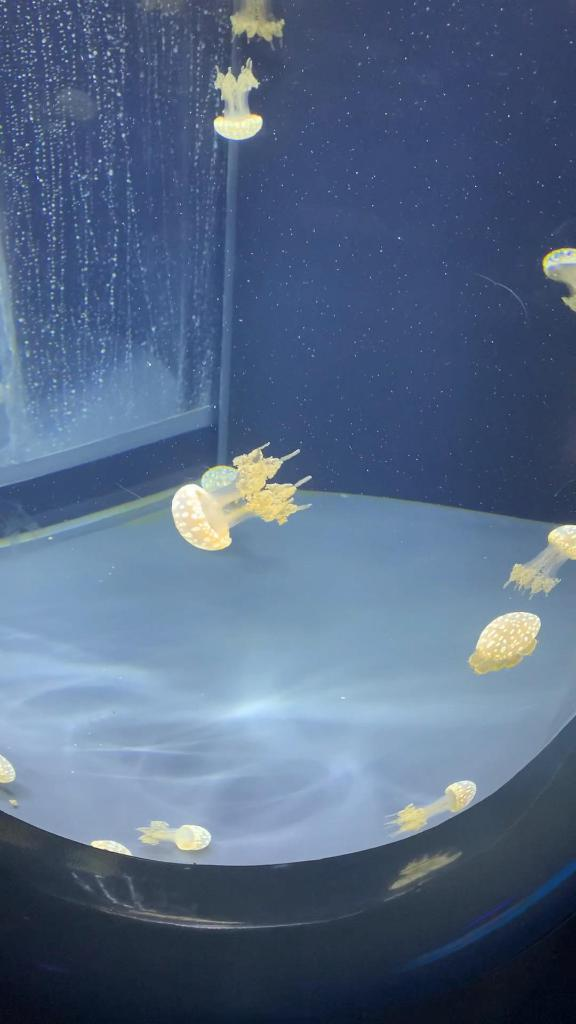jellyfish: (382, 776, 482, 838), (166, 482, 232, 550), (469, 609, 543, 669), (210, 113, 264, 141), (541, 244, 575, 288), (170, 818, 214, 852), (445, 775, 479, 809), (548, 523, 574, 561), (0, 752, 20, 788)
